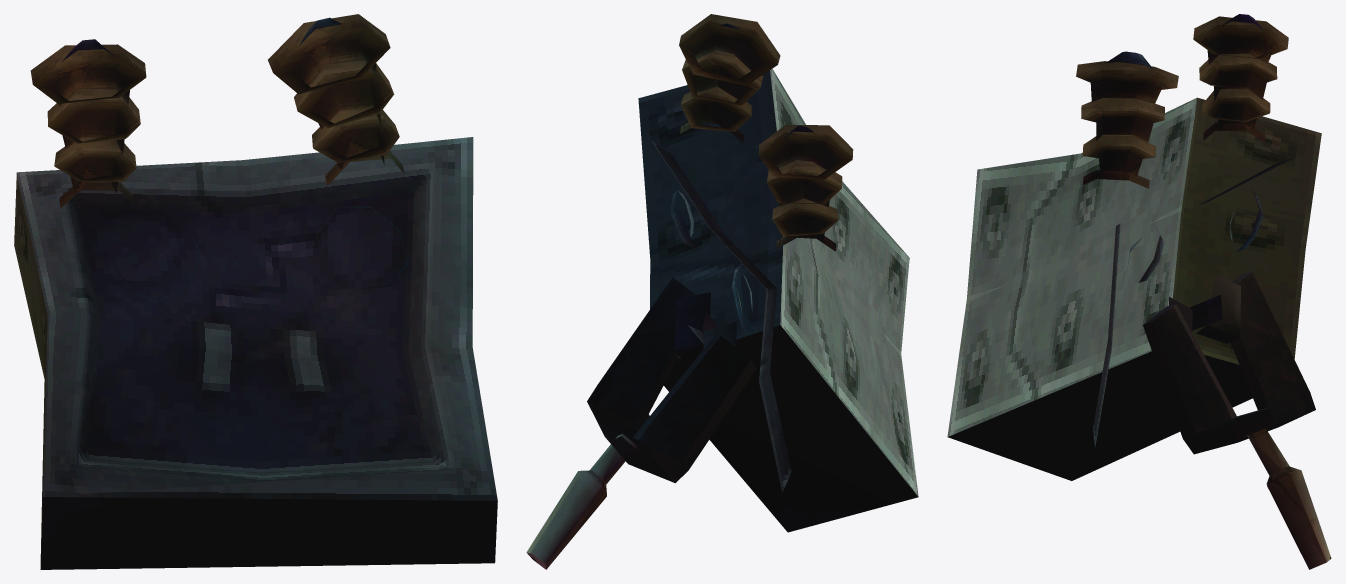
The model's file is ps2_save-icons_monsterlab.glb.
3 renders of one model, left to right at view 1: azimuth 30°, elevation 25°; view 2: azimuth 150°, elevation 25°; view 3: azimuth 270°, elevation 25°, orthographic. The views are drawn at different scales.
Visible parts, largest first — view 1: static.ico; view 2: static.ico; view 3: static.ico.
Part boxes in pixels (bbox=[...]): static.ico: bbox=[14, 14, 497, 569]; static.ico: bbox=[526, 14, 918, 569]; static.ico: bbox=[947, 14, 1331, 569].
Bounding box in the file's own units: 1.93 × 2.79 × 2.04.
Materials: 1 (1 with a texture image).
